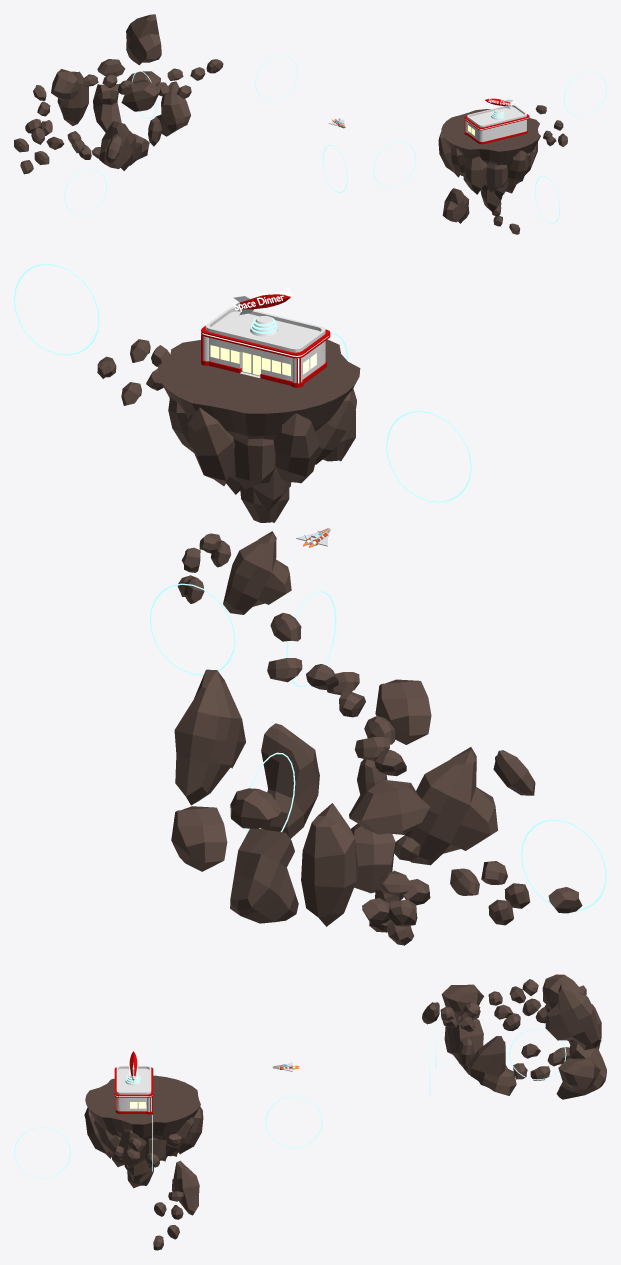
File: space_circuit_-_lowpoly.glb
The picture shows the model from 3 angles, top to bottom: view 1: azimuth 30°, elevation 25°; view 2: azimuth 150°, elevation 25°; view 3: azimuth 270°, elevation 25°; orthographic projection. The views are drawn at different scales.
Parts seen in each view (by area): view 1: Cylinder.001_39, Cube.068_75, Cube.007_13, Cube.003_11, Cube.018_24, Cube.017_23, Cube.009_15, Cube.006_12, Cube.052_59, Cube.014_20, Cube.040_47, Cube.036_43 (+7 smaller); view 2: Cylinder.001_39, Cube.068_75, Cube.018_24, Cube.007_13, Cube.017_23, Cube.006_12, Cube.003_11, Cube.052_59, Cube.014_20, Cube.019_25, Cube.009_15, Cube.043_50 (+7 smaller); view 3: Cylinder.001_39, Cube.007_13, Cube.003_11, Cube.068_75, Cube.017_23, Cube.019_25, Cube.052_59, Cube.018_24, Cube.009_15, Cube.014_20, Cube.051_58, Cube.047_54 (+2 smaller).
Boxes of the visible parts, box(x1,y1,x2,y2) form: Cylinder.001_39: box(441, 109, 540, 165); Cube.068_75: box(464, 104, 529, 144); Cube.007_13: box(126, 14, 161, 65); Cube.003_11: box(156, 81, 190, 136); Cube.018_24: box(99, 121, 136, 170); Cube.017_23: box(93, 83, 121, 132); Cube.009_15: box(121, 82, 160, 111); Cube.006_12: box(57, 71, 88, 125); Cube.052_59: box(442, 188, 469, 223); Cube.014_20: box(51, 69, 78, 99); Cube.040_47: box(464, 156, 487, 194); Cube.036_43: box(506, 150, 528, 184); Cylinder.001_39: box(157, 339, 360, 439); Cube.068_75: box(201, 306, 330, 385); Cube.018_24: box(404, 747, 497, 865); Cube.007_13: box(174, 669, 245, 805); Cube.017_23: box(230, 828, 298, 923); Cube.006_12: box(301, 803, 358, 926); Cube.003_11: box(260, 723, 319, 838); Cube.052_59: box(223, 531, 291, 614); Cube.014_20: box(349, 779, 429, 834); Cube.019_25: box(171, 806, 227, 871); Cube.009_15: box(375, 679, 431, 744); Cube.043_50: box(273, 413, 319, 483); Cylinder.001_39: box(85, 1075, 200, 1141); Cube.007_13: box(545, 984, 601, 1050); Cube.003_11: box(468, 1036, 516, 1095); Cube.068_75: box(114, 1066, 153, 1113); Cube.017_23: box(556, 1040, 606, 1099); Cube.019_25: box(558, 1058, 600, 1090); Cube.052_59: box(172, 1160, 199, 1215); Cube.018_24: box(444, 1014, 483, 1074); Cube.009_15: box(441, 984, 484, 1016); Cube.014_20: box(542, 974, 583, 1009); Cube.051_58: box(119, 1128, 146, 1168); Cube.047_54: box(176, 1106, 203, 1154).
Bounding box in the file's own units: 42.23 × 14.34 × 43.38.
